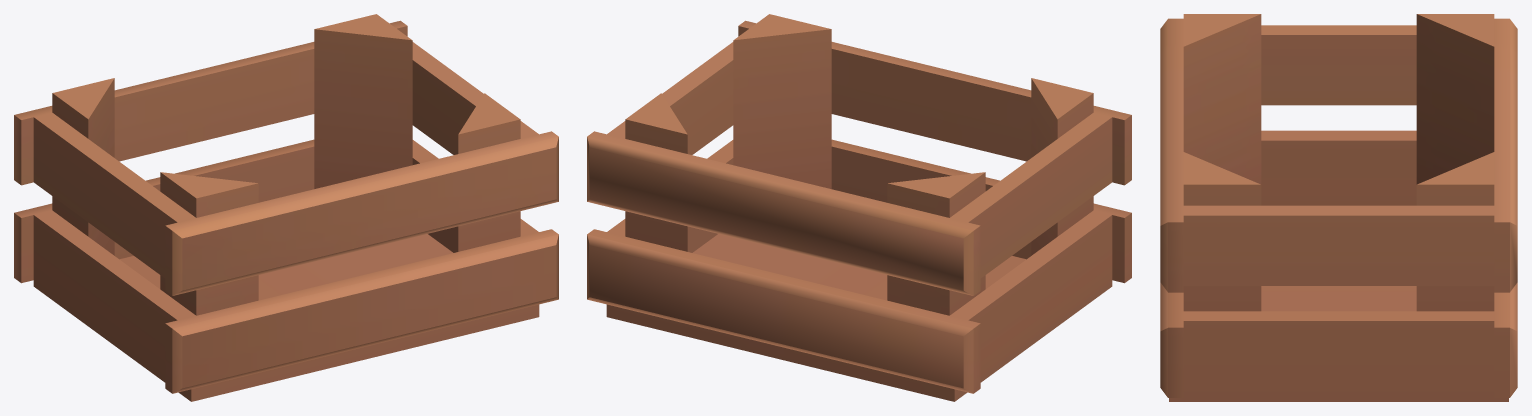
File: food_crate_large_empty.glb
3 renders of one model, left to right at view 1: azimuth 30°, elevation 25°; view 2: azimuth 150°, elevation 25°; view 3: azimuth 270°, elevation 25°, orthographic. The views are drawn at different scales.
Parts seen in each view (by area): view 1: Food_Crate_Large_Empty; view 2: Food_Crate_Large_Empty; view 3: Food_Crate_Large_Empty.
Boxes of the visible parts, x1,y1,x2,y2 form: Food_Crate_Large_Empty: (14, 14, 558, 401); Food_Crate_Large_Empty: (587, 14, 1131, 401); Food_Crate_Large_Empty: (1160, 14, 1517, 401).
Size of the model in its own units: 1.03 by 0.4991 by 0.7657.
1 material, 1 textured.
